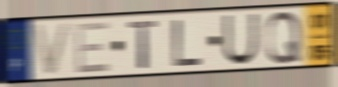E: (73, 19, 112, 75)
L: (171, 18, 205, 69)
Q: (265, 9, 303, 66)
T: (127, 19, 160, 71)
U: (222, 12, 260, 67)
V: (30, 20, 74, 78)
